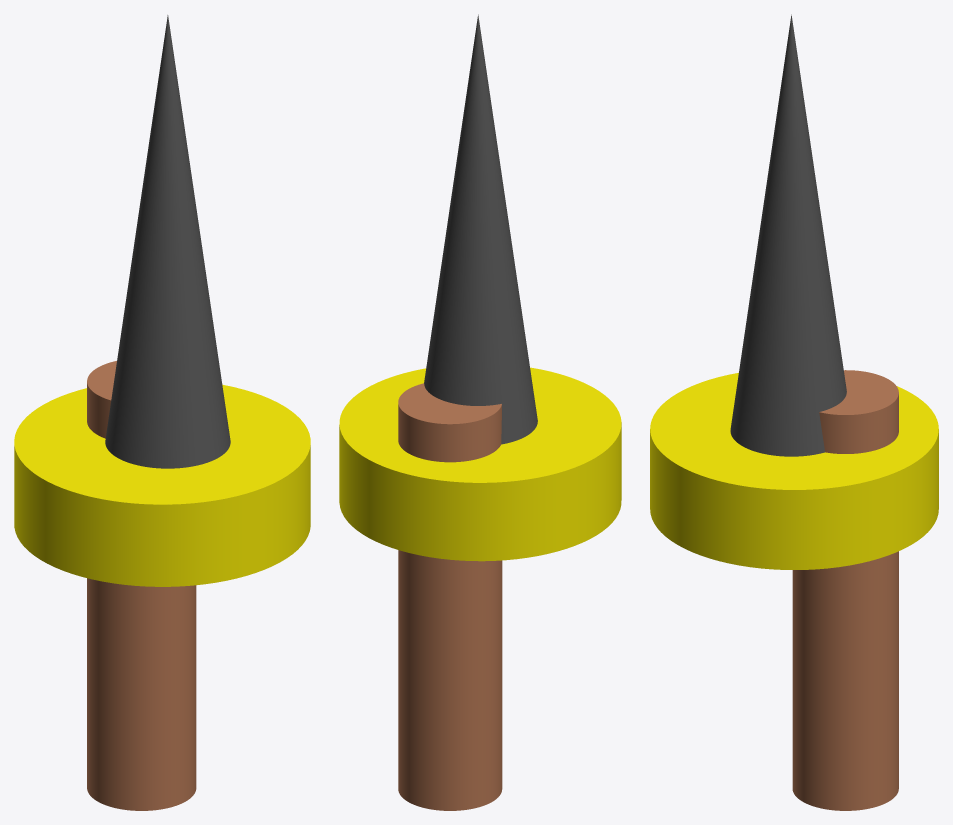
Rendered from sword.glb.
The picture shows the model from 3 angles, left to right: view 1: azimuth 30°, elevation 25°; view 2: azimuth 150°, elevation 25°; view 3: azimuth 270°, elevation 25°; orthographic projection. The views are drawn at different scales.
Visible parts, largest first — view 1: mesh_id29, mesh_id31, mesh_id27; view 2: mesh_id29, mesh_id27, mesh_id31; view 3: mesh_id29, mesh_id27, mesh_id31.
Part boxes in pixels (x1,y1,x2,y2): mesh_id29: (14, 384, 310, 586); mesh_id31: (105, 15, 230, 468); mesh_id27: (87, 361, 196, 810); mesh_id29: (339, 367, 621, 561); mesh_id27: (398, 383, 502, 810); mesh_id31: (424, 14, 537, 444); mesh_id29: (650, 372, 938, 569); mesh_id27: (792, 370, 898, 810); mesh_id31: (730, 14, 846, 456).
Bounding box in the file's own units: 0.1561 × 0.4615 × 0.1561.
3 materials, 3 textured.
